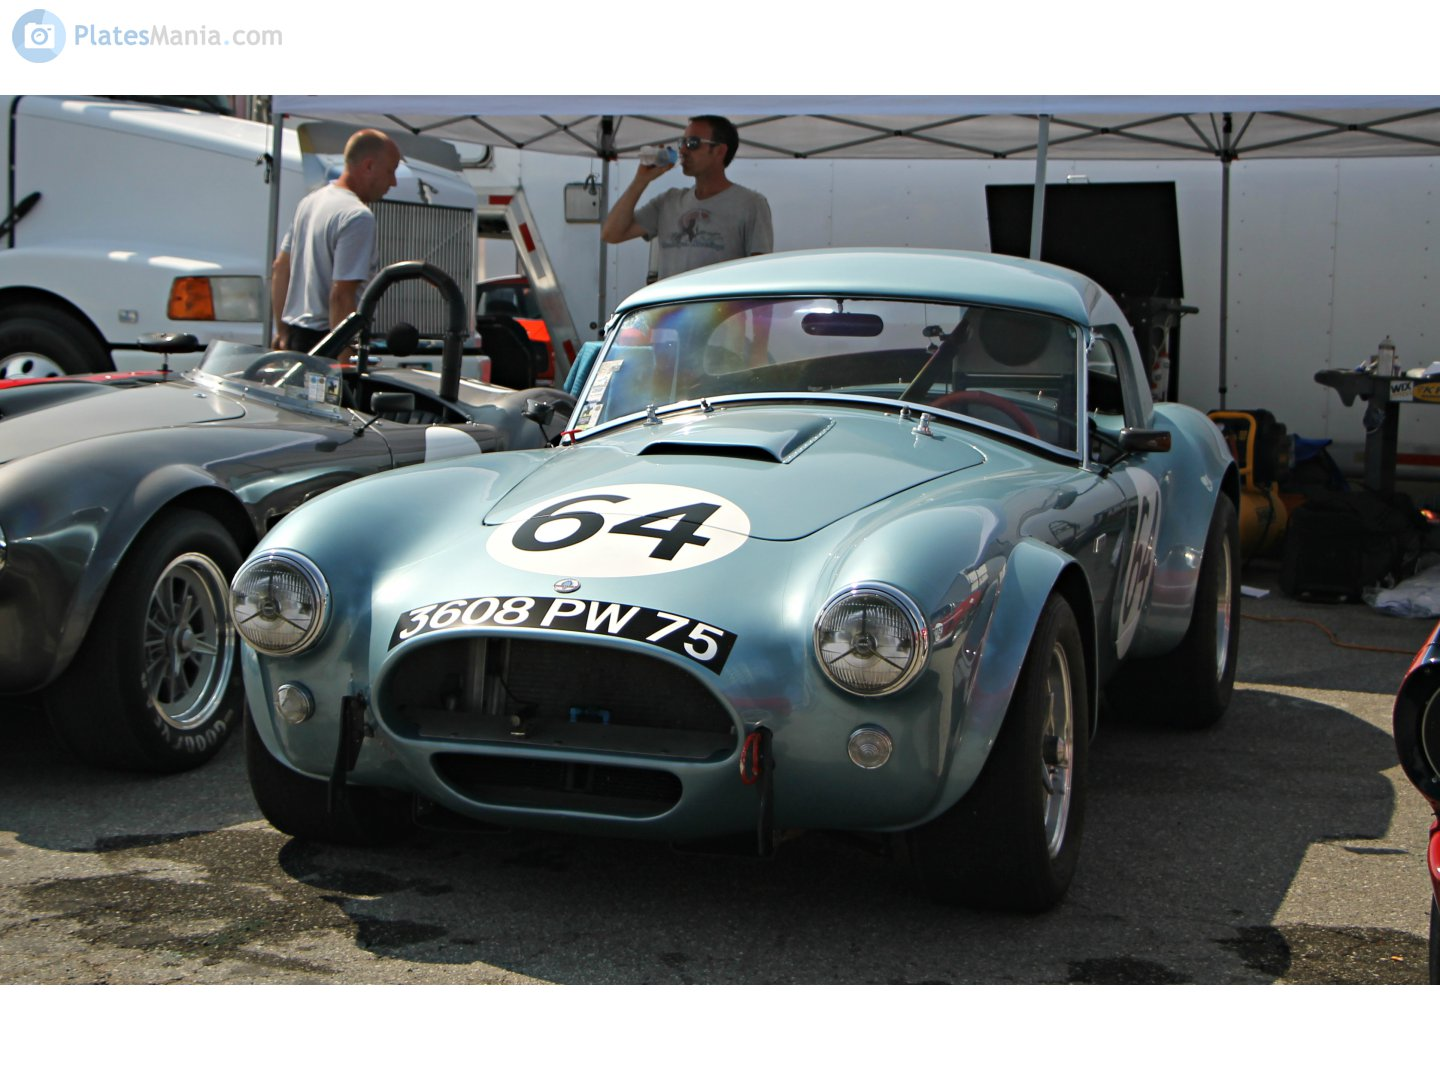licence plate: (386, 594, 739, 675)
